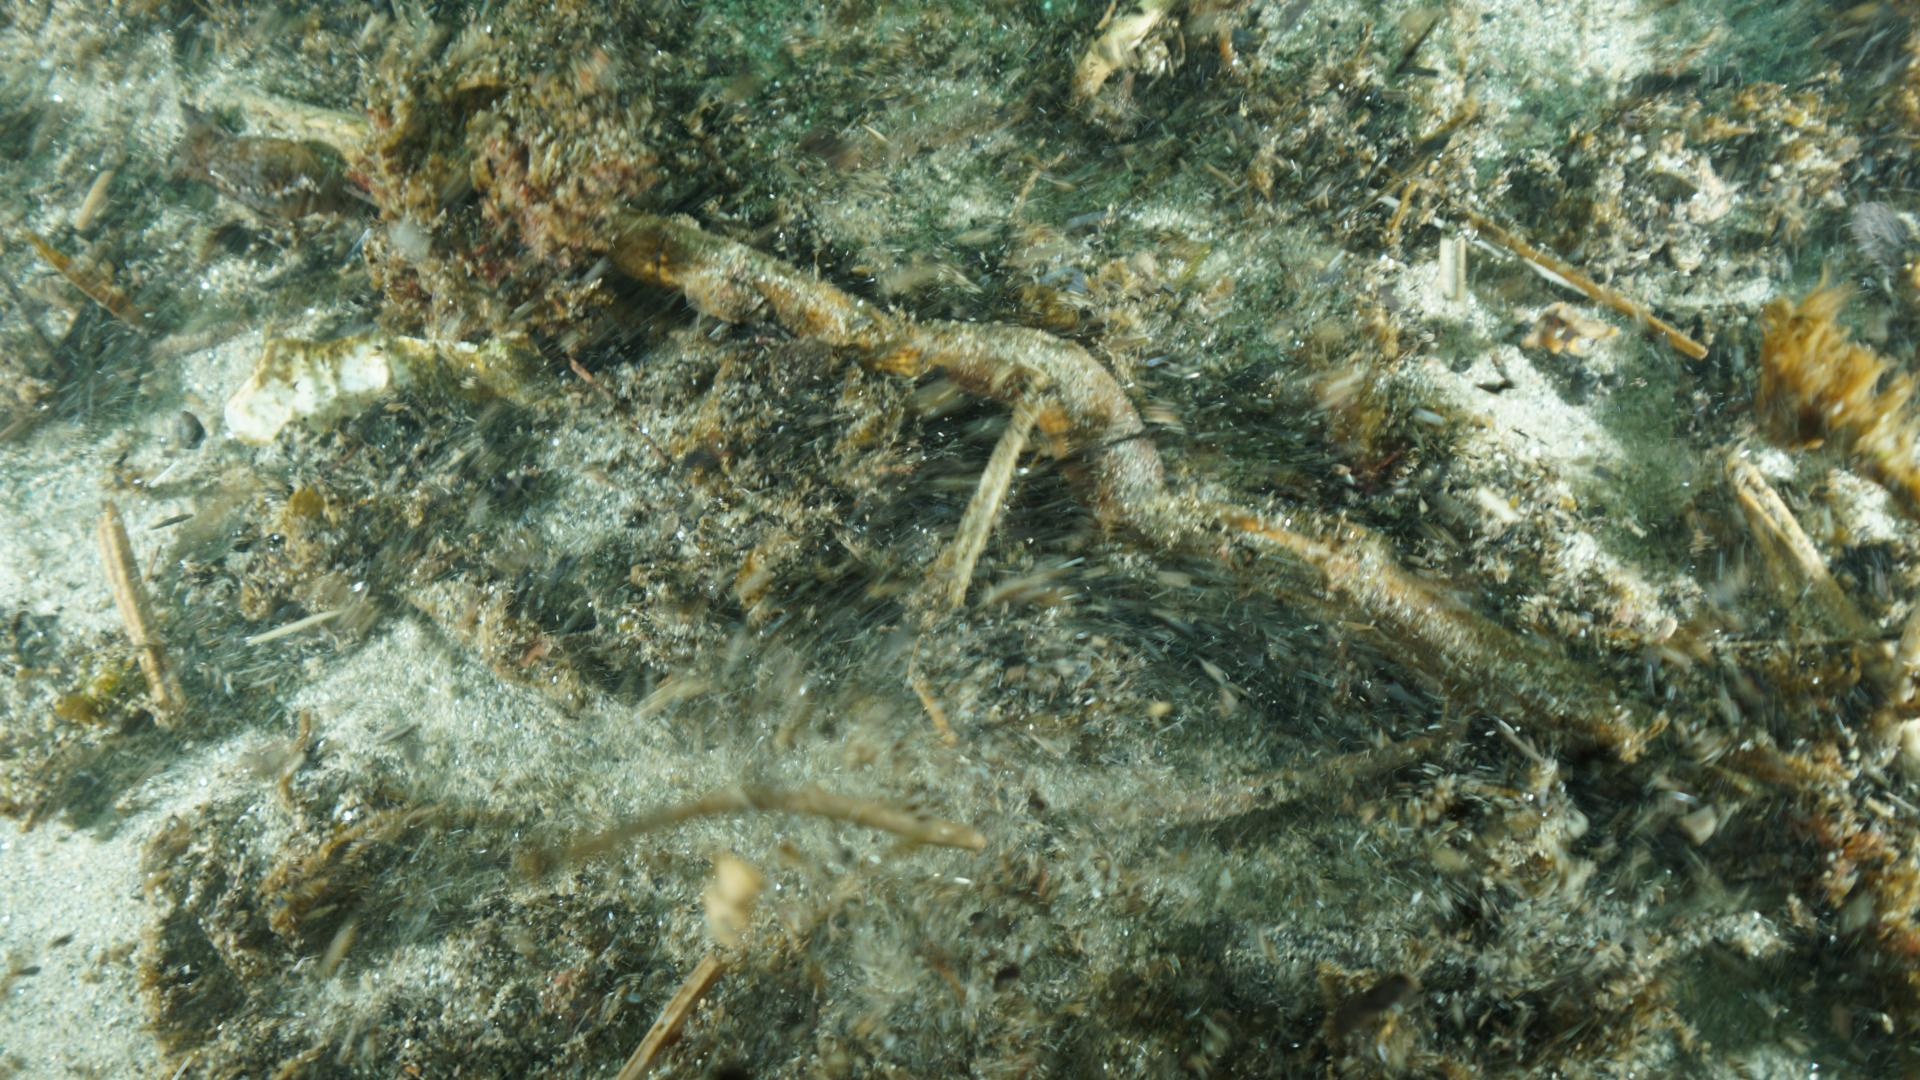wood: (611, 200, 1557, 708)
